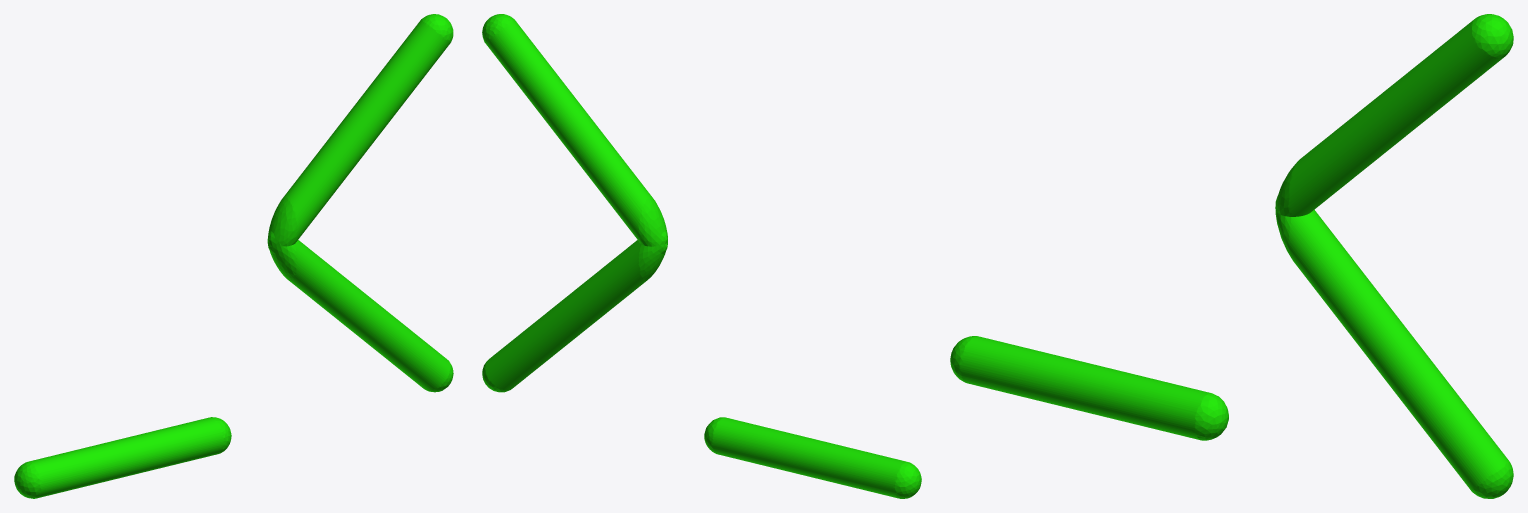
The model's file is code.gltf.
The picture shows the model from 3 angles, left to right: view 1: azimuth 30°, elevation 25°; view 2: azimuth 150°, elevation 25°; view 3: azimuth 330°, elevation 25°; orthographic projection. The views are drawn at different scales.
Visible parts, largest first — view 1: 194079_23_02_07_14_51_56; view 2: 194079_23_02_07_14_51_56; view 3: 194079_23_02_07_14_51_56.
Part boxes in pixels (x1,y1,x2,y2): 194079_23_02_07_14_51_56: [14, 14, 453, 498]; 194079_23_02_07_14_51_56: [482, 14, 921, 498]; 194079_23_02_07_14_51_56: [950, 14, 1513, 498].
Size of the model in its own units: 6.54 by 5.51 by 0.4924.
